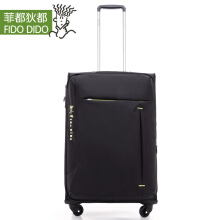luggage: (62, 4, 159, 216)
